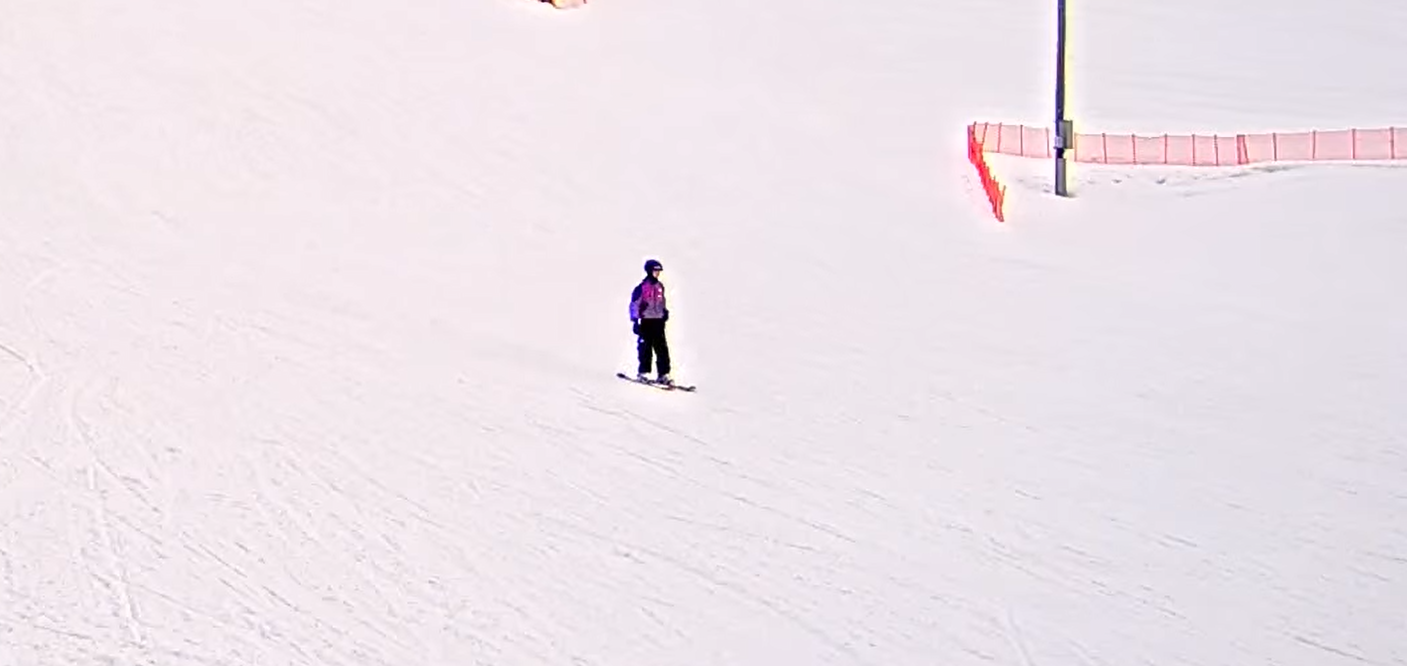skier: (608, 252, 698, 393)
